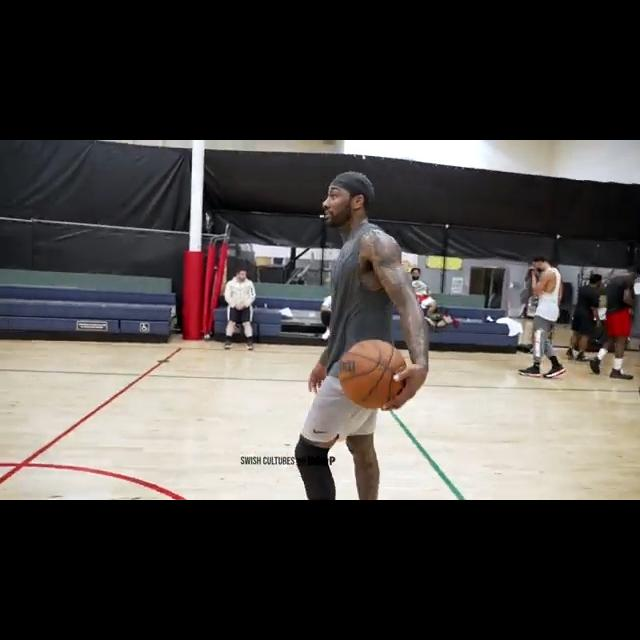basketball: (337, 339, 408, 410)
person: (293, 157, 432, 500), (585, 263, 640, 382), (516, 257, 568, 381), (566, 268, 604, 363), (221, 268, 265, 350), (407, 266, 439, 329), (314, 285, 334, 337)
